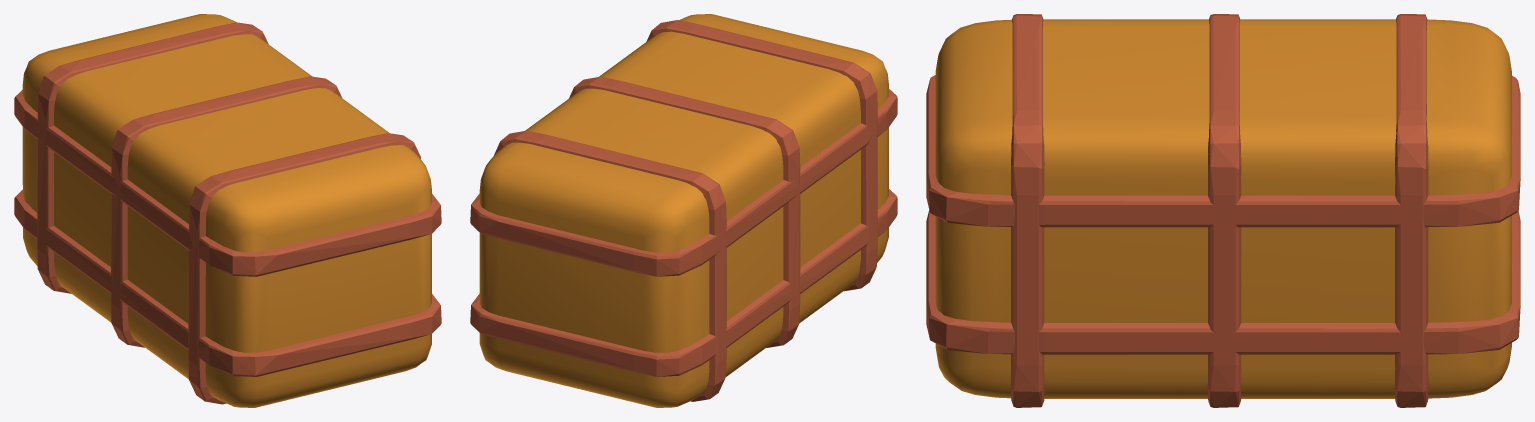
The model's file is Heno.fbx.
3 views of the same model, side by side, from view 1: azimuth 30°, elevation 25°; view 2: azimuth 150°, elevation 25°; view 3: azimuth 270°, elevation 25° (orthographic). The views are drawn at different scales.
Parts seen in each view (by area): view 1: Cube.023, Cube.003, Cube.004, Cube.002, Cube, Cube.001; view 2: Cube.023, Cube.003, Cube.004, Cube, Cube.002, Cube.001; view 3: Cube.023, Cube.003, Cube.004, Cube.002, Cube, Cube.001.
Part boxes in pixels (x1,y1,x2,y2): Cube.023: [22, 14, 431, 407]; Cube.003: [14, 90, 441, 276]; Cube.004: [14, 189, 441, 376]; Cube.002: [188, 133, 420, 404]; Cube: [37, 22, 268, 293]; Cube.001: [111, 76, 341, 347]; Cube.023: [479, 14, 888, 407]; Cube.003: [470, 89, 897, 276]; Cube.004: [470, 189, 897, 376]; Cube: [494, 130, 726, 401]; Cube.002: [646, 20, 877, 291]; Cube.001: [569, 76, 800, 347]; Cube.023: [935, 19, 1511, 398]; Cube.003: [926, 75, 1520, 227]; Cube.004: [926, 210, 1520, 354]; Cube.002: [1011, 14, 1044, 407]; Cube: [1395, 14, 1428, 407]; Cube.001: [1207, 14, 1241, 407].
Bounding box in the file's own units: 79.23 × 75.46 × 143.
